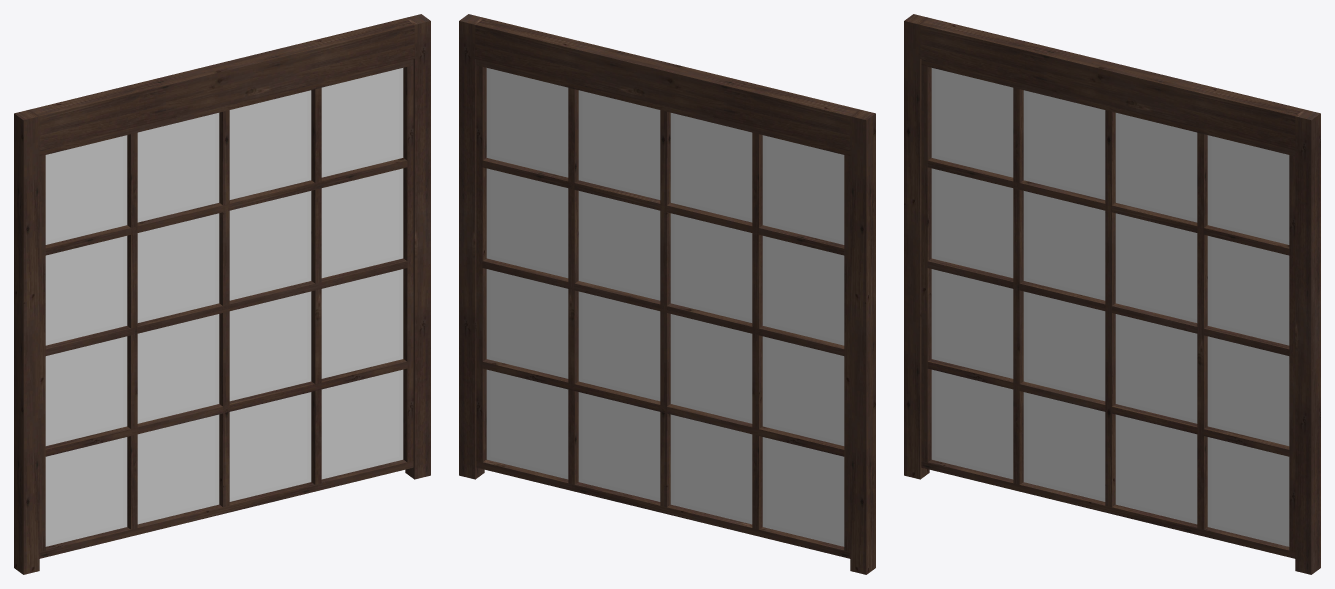
The model's file is es-policaA_h2000_darkpine.fbx.
The picture shows the model from 3 angles, left to right: view 1: azimuth 30°, elevation 25°; view 2: azimuth 150°, elevation 25°; view 3: azimuth 330°, elevation 25°; orthographic projection.
Parts seen in each view (by area): view 1: es-policaA_h2000_darkpine; view 2: es-policaA_h2000_darkpine; view 3: es-policaA_h2000_darkpine.
Part boxes in pixels (x1,y1,x2,y2): es-policaA_h2000_darkpine: [14, 14, 430, 574]; es-policaA_h2000_darkpine: [459, 14, 875, 574]; es-policaA_h2000_darkpine: [904, 14, 1320, 574].
Bounding box in the file's own units: 187 × 200 × 7.5.
2 materials, 1 textured.
